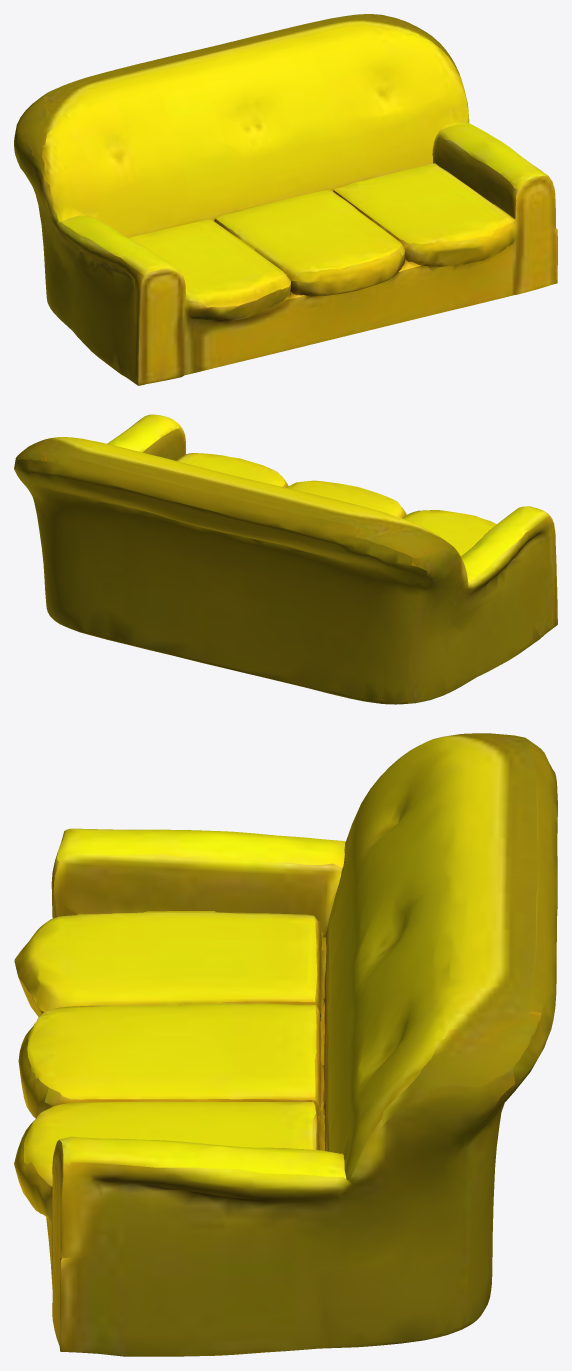
3 views of the same model, one above another, from view 1: azimuth 30°, elevation 25°; view 2: azimuth 150°, elevation 25°; view 3: azimuth 270°, elevation 25° (orthographic). The views are drawn at different scales.
Visible parts, largest first — view 1: world; view 2: world; view 3: world.
Part boxes in pixels (bbox=[...]): world: bbox=[14, 14, 557, 385]; world: bbox=[14, 414, 557, 704]; world: bbox=[14, 733, 557, 1356].
Size of the model in its own units: 1.22 by 0.5236 by 0.8068.
Materials: 1 (1 with a texture image).
